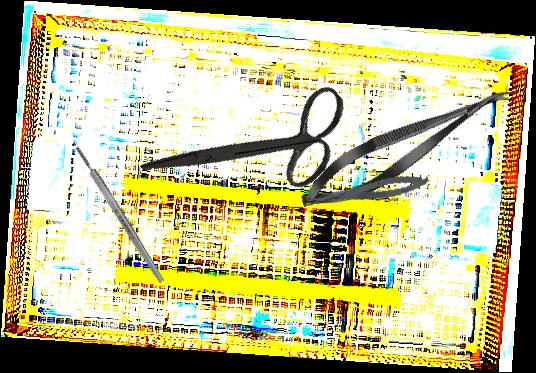Iris Scissors: (139, 32, 370, 261)
Micro Scissor: (290, 69, 524, 224), (302, 171, 430, 211)
Scalpel Handle: (73, 144, 166, 285)
